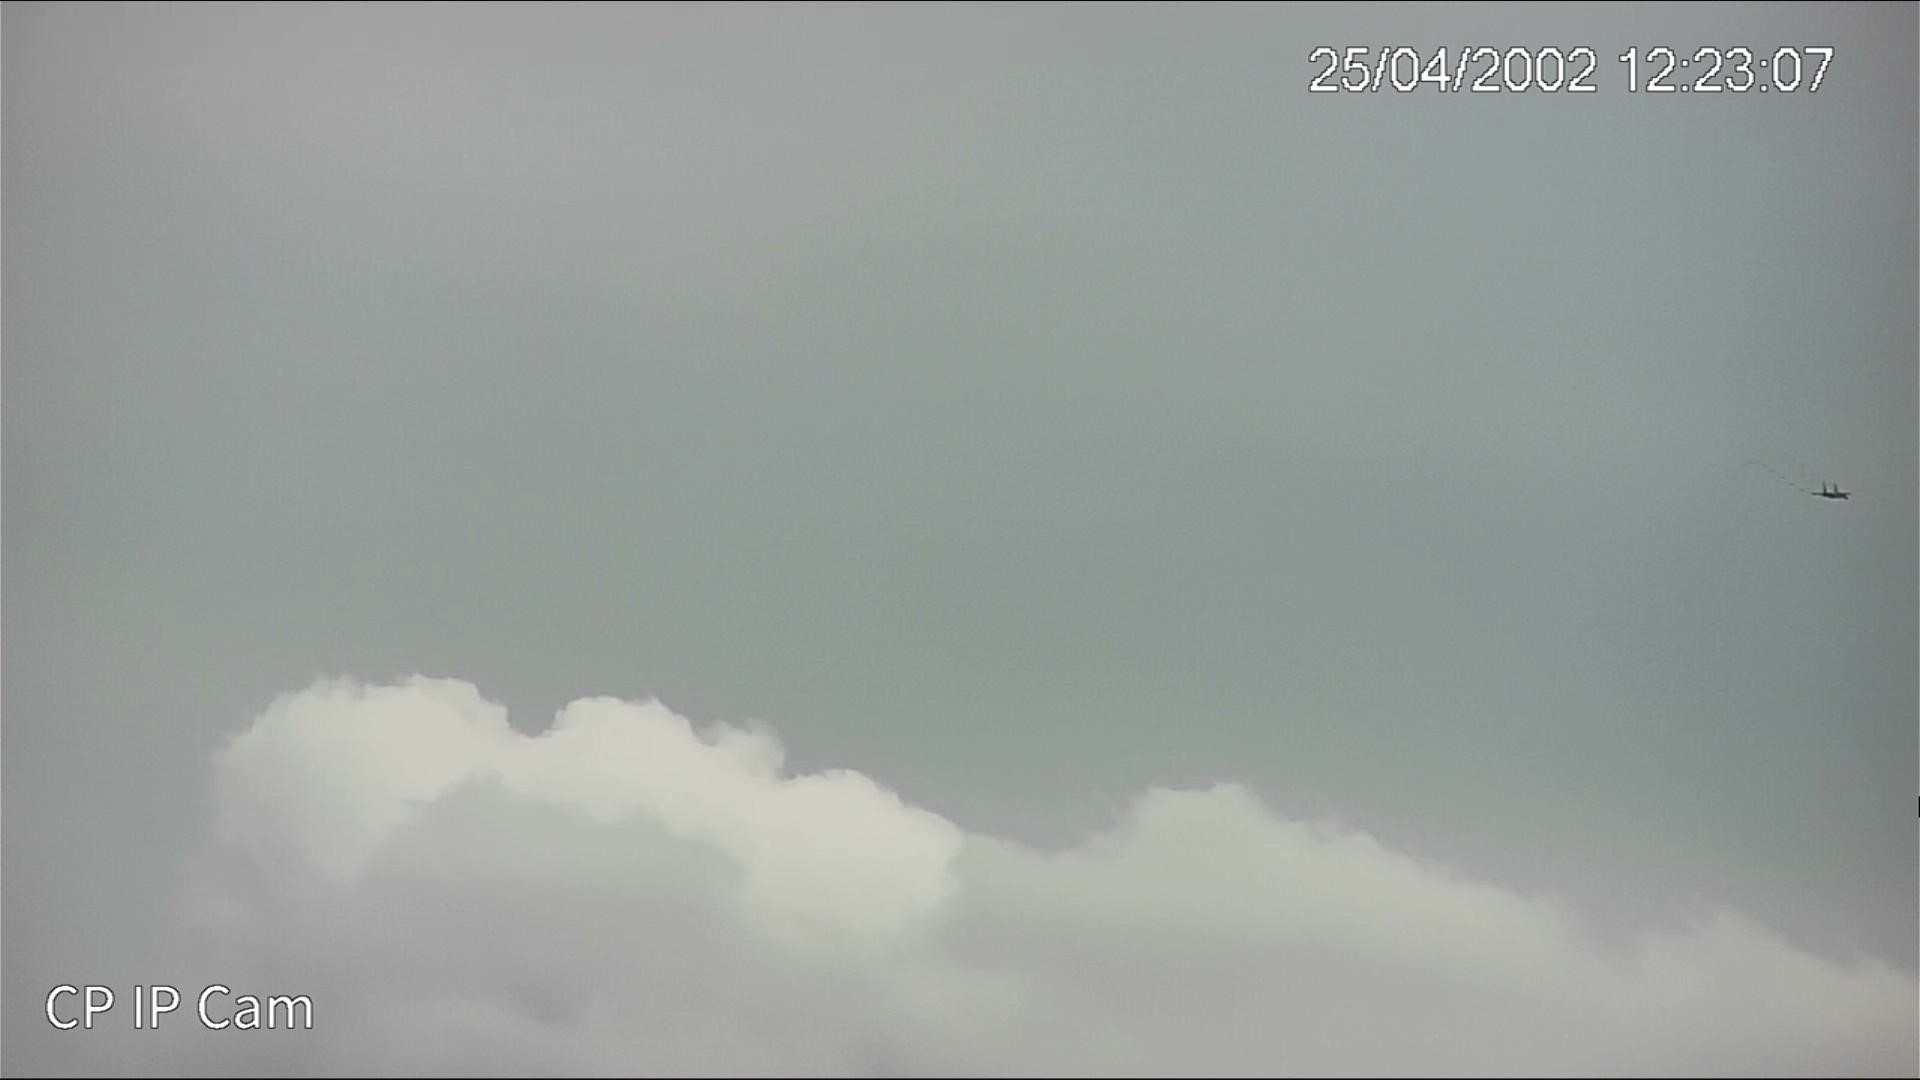SU_30: (1808, 480, 1851, 498)
